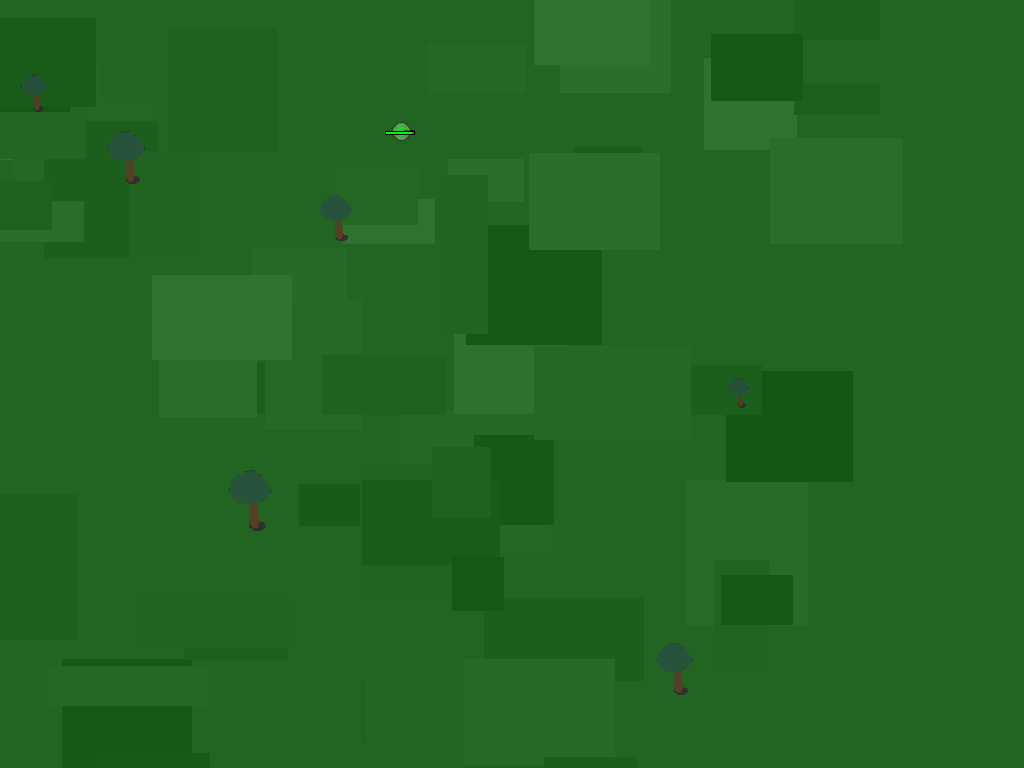Rifleman: (382, 112, 418, 148)
